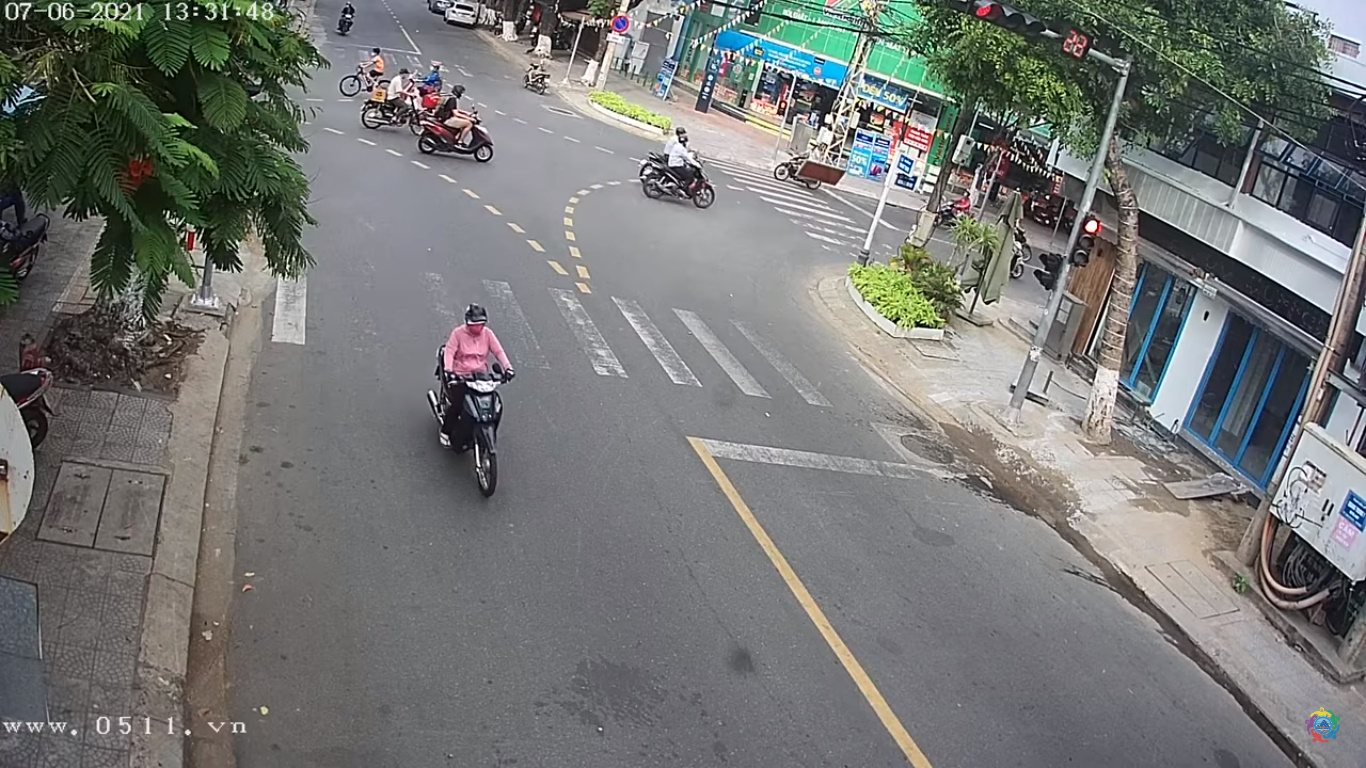motorbike: (422, 308, 529, 500)
